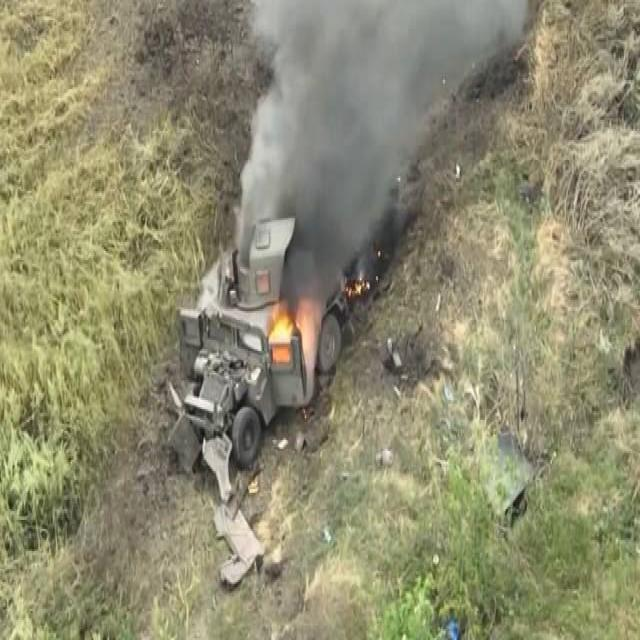Destroyed: (173, 171, 357, 471)
